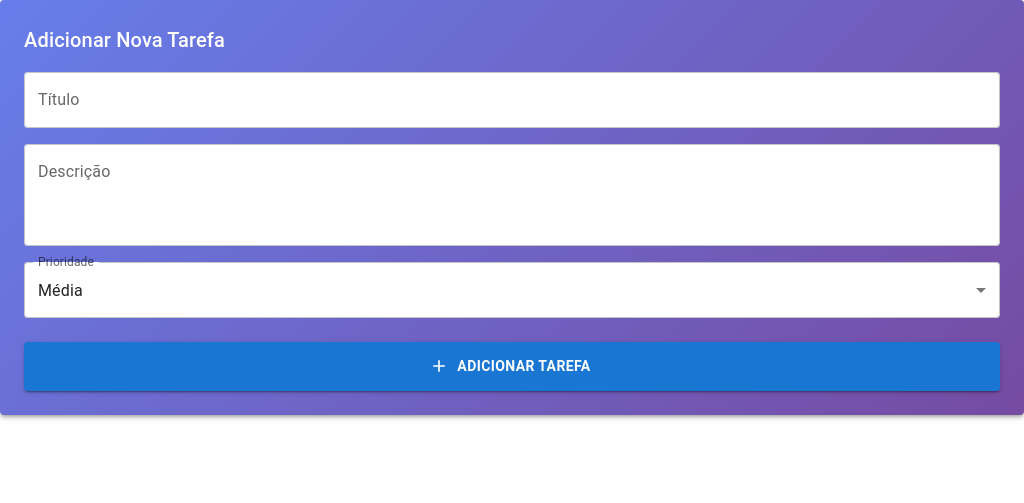
Test: FormularioTarefa › Validação › deve mostrar erro quando descrição está vazia
This screenshot has width=1024, height=503.
Type "Tarefa Teste" into the field labelled "Título". click: point(512, 100)
box: [24,72,1000,128]
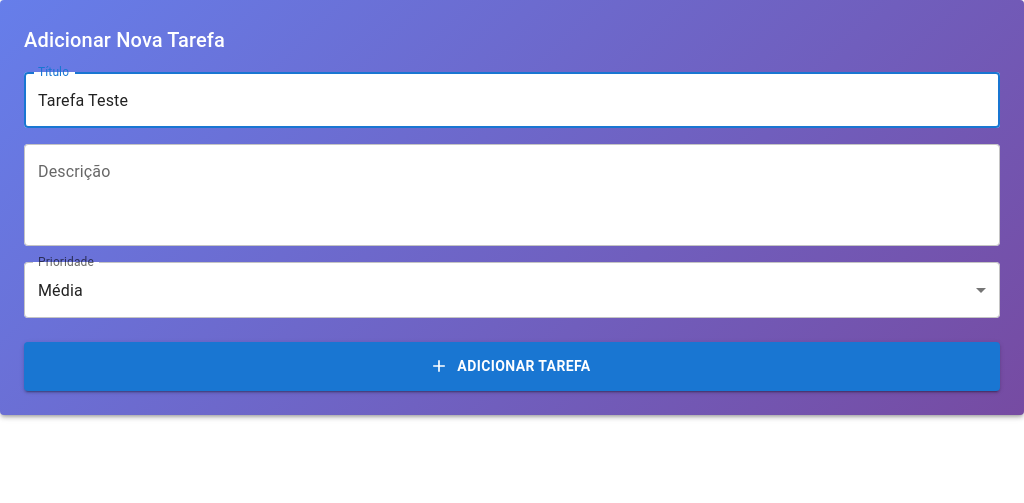
Click the button with test id "botao-adicionar". click: point(512, 366)
box: [24,342,1000,390]
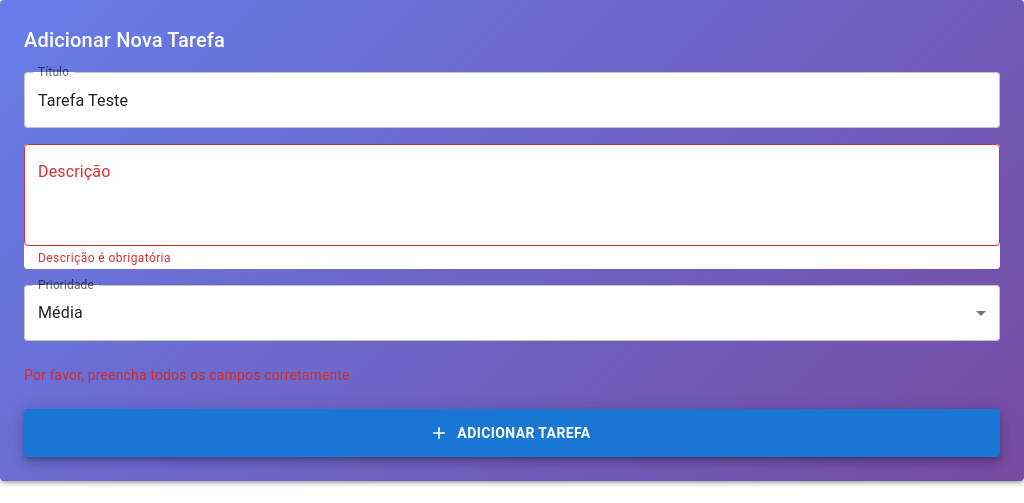
Now the text "Por favor, preencha todos os campos corretamente" is shown, box [24,367,350,383]
